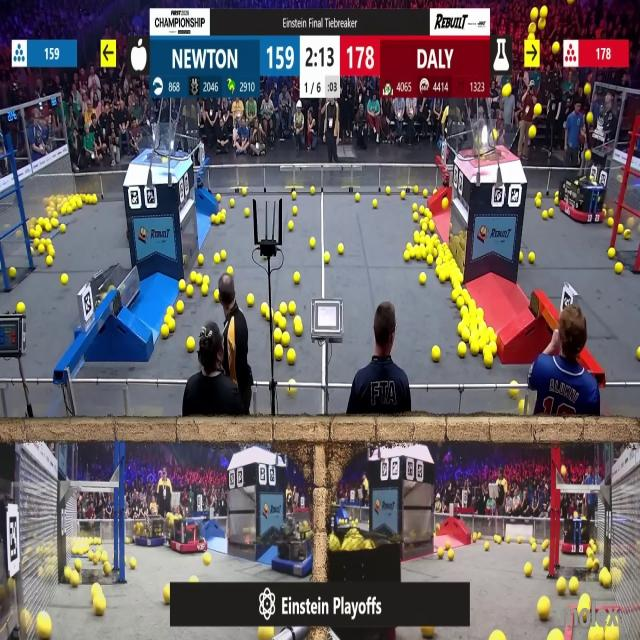ball_airborne: (531, 8, 539, 21), (529, 127, 537, 139), (502, 86, 510, 98), (553, 42, 561, 54), (533, 105, 541, 116), (537, 20, 545, 31), (585, 85, 592, 97), (539, 7, 547, 17), (529, 24, 536, 34), (588, 112, 594, 123), (560, 465, 566, 476), (586, 150, 592, 160), (492, 130, 498, 140)
ball_ground: (38, 616, 51, 640), (94, 596, 106, 616), (538, 598, 548, 620), (260, 626, 274, 640), (600, 569, 610, 587), (422, 625, 434, 639), (557, 580, 567, 596), (568, 580, 578, 595), (582, 594, 591, 610), (484, 353, 494, 367), (70, 572, 80, 586), (469, 342, 479, 356), (432, 346, 440, 362), (286, 350, 295, 364), (165, 586, 172, 604), (590, 628, 601, 639), (607, 628, 618, 639), (294, 319, 302, 334), (282, 333, 290, 347), (186, 338, 194, 352), (64, 568, 72, 582), (552, 630, 563, 640), (458, 344, 466, 357), (276, 346, 284, 359), (274, 331, 282, 344), (524, 563, 532, 576), (176, 302, 184, 314), (288, 303, 296, 315), (616, 264, 624, 276), (204, 554, 212, 566), (247, 293, 254, 306), (105, 562, 112, 575), (16, 303, 24, 314), (178, 280, 186, 291), (491, 632, 502, 640), (186, 284, 193, 296), (163, 324, 170, 336), (202, 284, 209, 296), (292, 273, 299, 285), (541, 558, 548, 570), (169, 319, 176, 331), (452, 290, 459, 302), (262, 301, 268, 315), (93, 586, 100, 598), (426, 254, 434, 264), (511, 388, 519, 398), (274, 313, 282, 323), (280, 304, 287, 315), (440, 273, 447, 284), (462, 329, 469, 340), (62, 274, 68, 286), (220, 250, 226, 262), (8, 269, 15, 279), (203, 275, 210, 285), (213, 290, 220, 300), (484, 345, 491, 355), (460, 308, 467, 318), (608, 248, 614, 259), (420, 274, 426, 285), (46, 255, 52, 266), (529, 252, 535, 263), (132, 558, 138, 569), (280, 318, 286, 329), (214, 253, 220, 264), (75, 559, 81, 570), (491, 344, 497, 355), (190, 273, 196, 284), (33, 226, 39, 237), (46, 247, 53, 256), (37, 245, 44, 254), (217, 214, 224, 223), (44, 222, 51, 231), (421, 222, 428, 231), (428, 222, 435, 231), (444, 200, 450, 210), (403, 251, 409, 261), (339, 244, 345, 254), (199, 254, 205, 264), (310, 239, 316, 249), (413, 212, 419, 222), (168, 307, 174, 317), (195, 274, 201, 284), (437, 550, 443, 560), (588, 559, 594, 569), (414, 233, 420, 243), (519, 399, 525, 409), (458, 274, 464, 284), (419, 242, 425, 252), (288, 387, 295, 395), (478, 309, 485, 317), (76, 202, 83, 210), (324, 252, 329, 263), (226, 267, 232, 276), (606, 218, 612, 227), (61, 222, 67, 231), (624, 231, 630, 240), (244, 208, 250, 217), (534, 199, 540, 208), (550, 208, 556, 217), (212, 214, 218, 223), (541, 210, 547, 219), (266, 312, 272, 321), (50, 218, 56, 227), (424, 208, 430, 217), (449, 551, 454, 561), (189, 575, 196, 582), (636, 347, 640, 359), (419, 207, 425, 215), (435, 256, 441, 264), (416, 252, 422, 260), (33, 240, 39, 248), (102, 554, 108, 562), (541, 541, 547, 549), (414, 185, 420, 193), (123, 536, 129, 544), (462, 288, 468, 296), (288, 221, 293, 230), (620, 223, 625, 232), (457, 324, 462, 333), (93, 193, 98, 202), (432, 248, 437, 257), (495, 535, 501, 542), (288, 379, 294, 386), (165, 316, 171, 323), (355, 192, 360, 200), (292, 207, 297, 215), (371, 200, 376, 208), (485, 542, 490, 550), (400, 190, 405, 198), (423, 188, 428, 196), (555, 199, 560, 207), (216, 193, 221, 201), (386, 186, 391, 194), (311, 186, 316, 194), (435, 268, 440, 276), (447, 540, 452, 548), (491, 335, 496, 343), (520, 253, 524, 262), (68, 206, 72, 215), (291, 191, 296, 198), (413, 205, 418, 212), (536, 191, 541, 198), (489, 327, 494, 334), (432, 235, 437, 242), (532, 542, 536, 550), (229, 201, 233, 209), (408, 240, 412, 248), (516, 538, 520, 546), (505, 536, 510, 542), (243, 188, 247, 195), (555, 191, 560, 196), (472, 534, 476, 540)
goal: (129, 130, 189, 162), (466, 127, 522, 161)
robot_blue: (77, 267, 137, 327), (276, 519, 315, 577), (132, 518, 166, 547)
robot_red: (559, 172, 604, 222), (165, 516, 208, 554), (558, 514, 592, 554)
